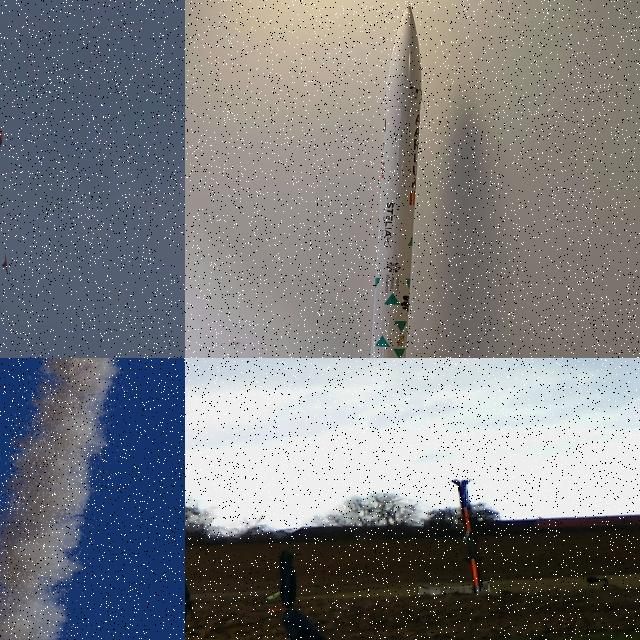Rocket: (370, 1, 422, 358), (458, 482, 482, 594)
